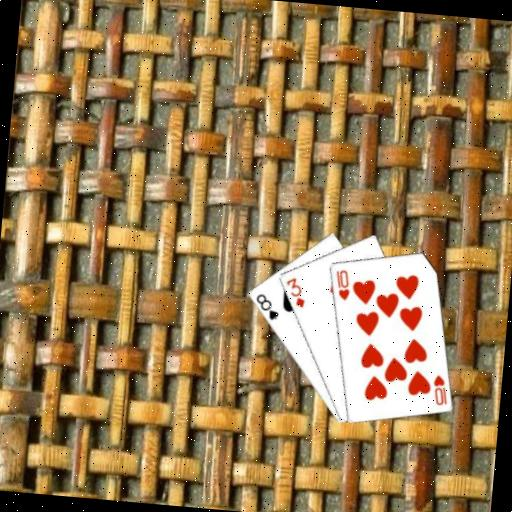10H: (428, 371, 451, 407), (331, 266, 353, 303)
3D: (281, 274, 308, 310)
8S: (251, 290, 281, 322)
